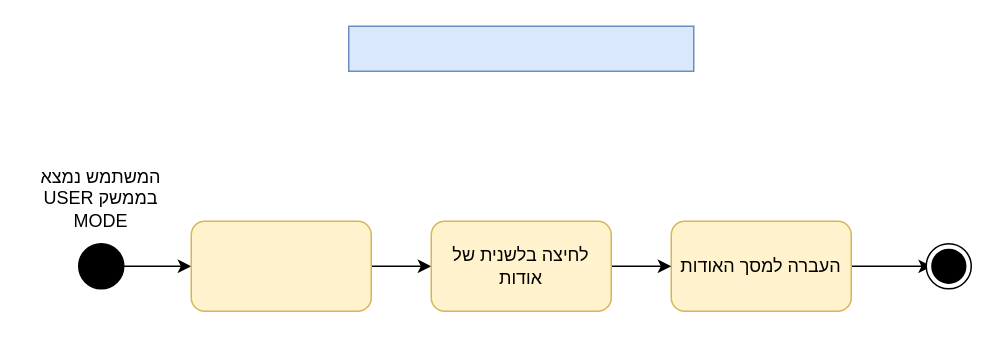
Some shapes in this 998 by 338 pixel diagram are drawn without their labels. The shapes that lost their labels are listed below. From the top down, each one's centre as x and y in pixels, then its label:
(520,48): גישה לאודות
(280,265): גישה לטפריט
